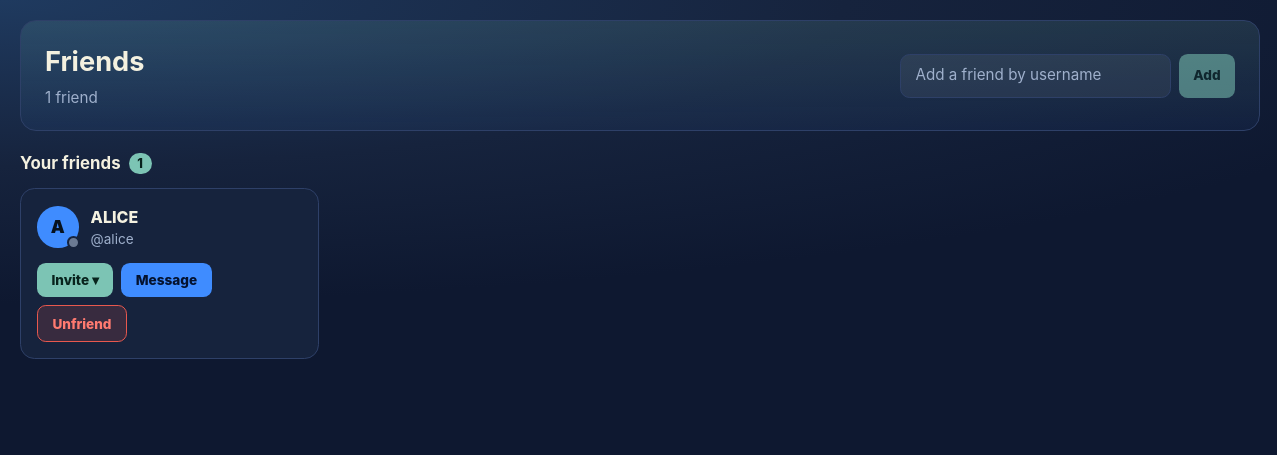
Test: Friends page › closes the invite menu via the backdrop
Click the button "Invite ▾": (75, 280) [37,262,113,297]
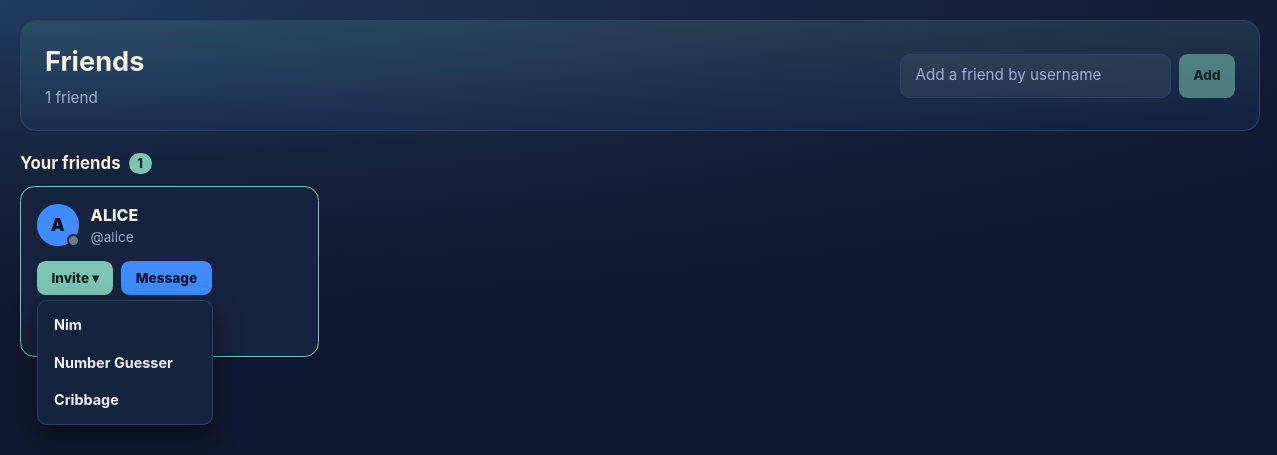
Now the menu is shown, box [37,300,213,424]
Click the element with class "fr-invite-backdrop": (170, 271) [21,187,318,356]
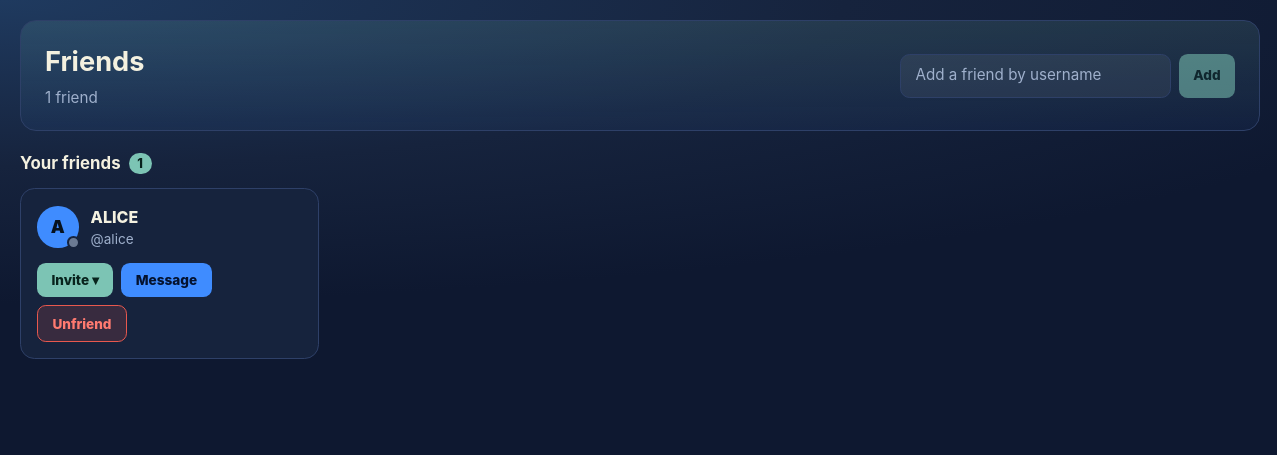
Now the menu is gone
